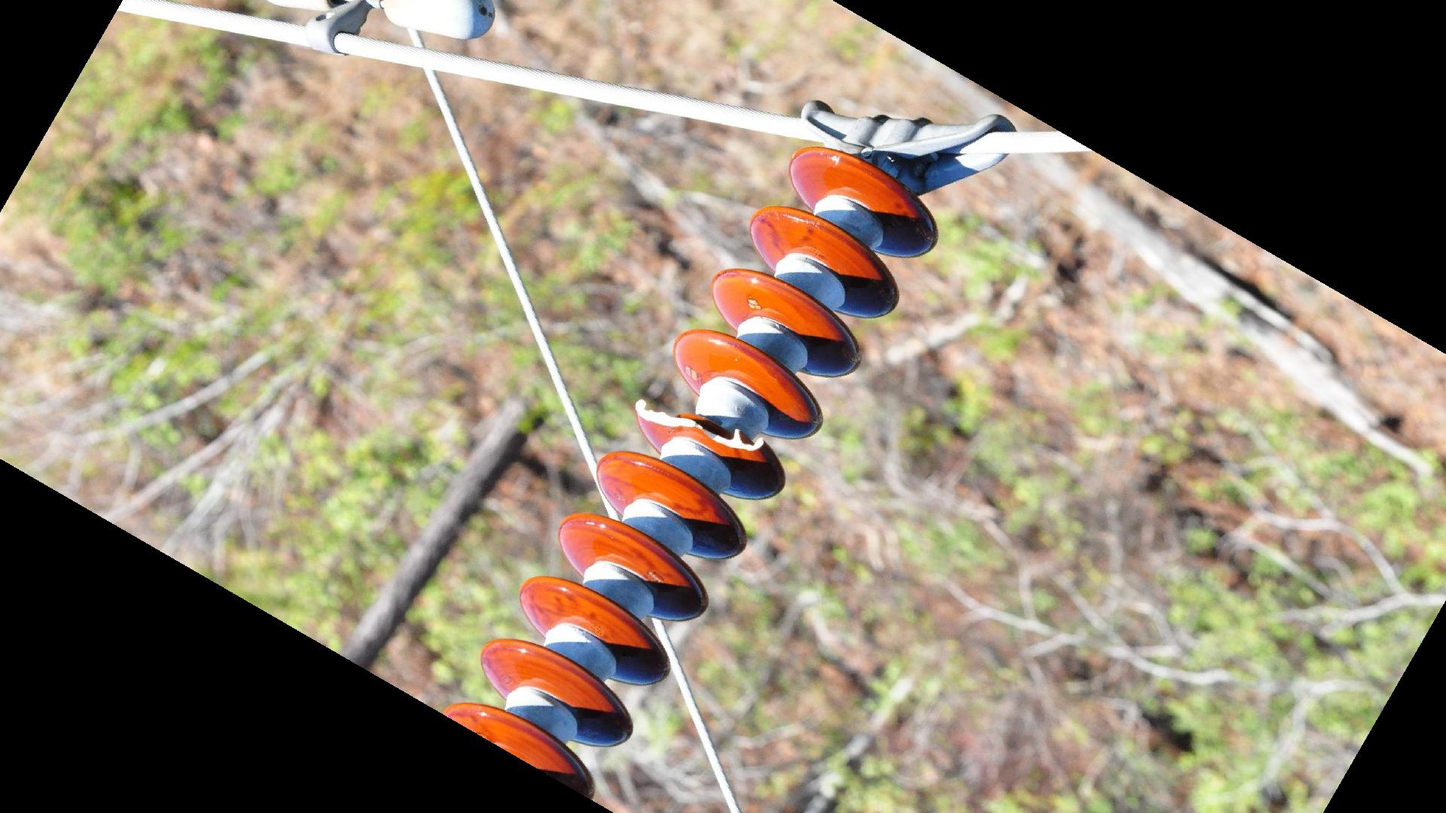insulator: (435, 139, 946, 802)
insulator_breakage: (629, 394, 779, 466)
